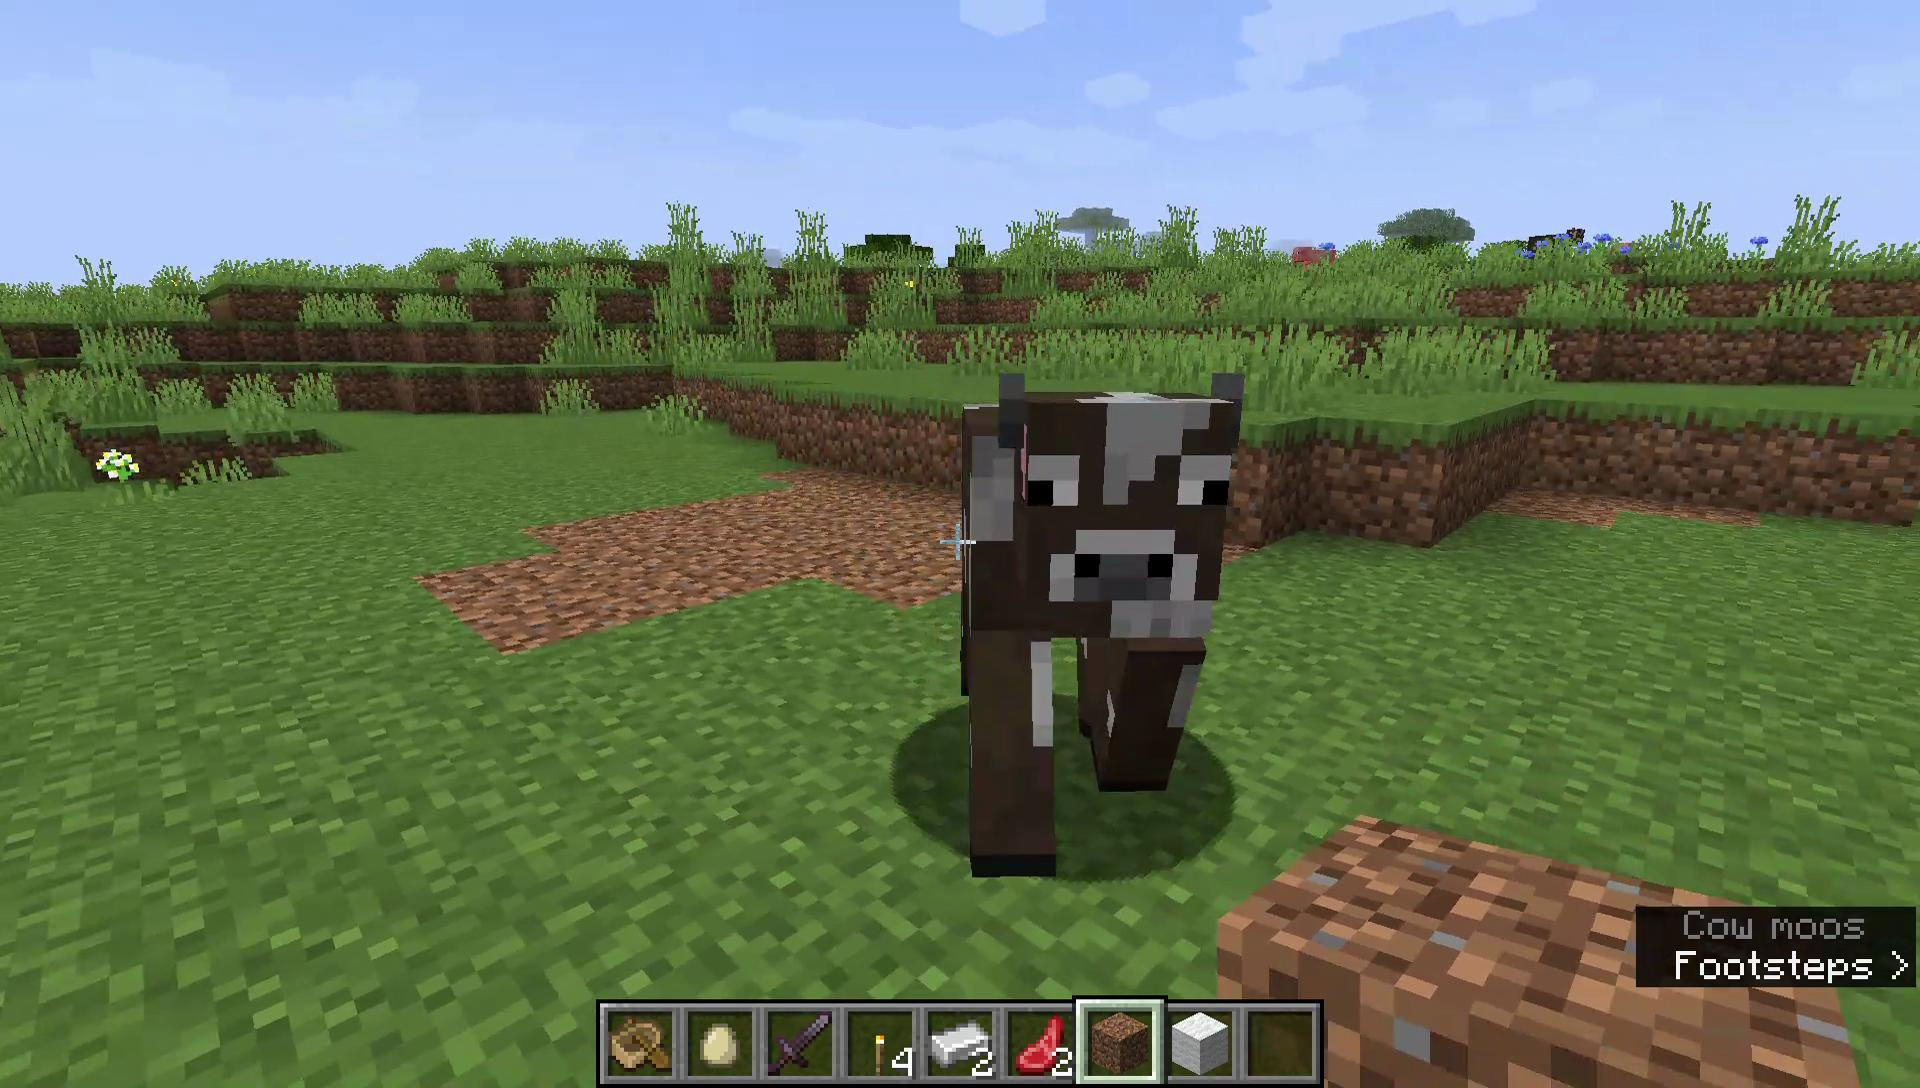cow: (949, 360, 1258, 876)
